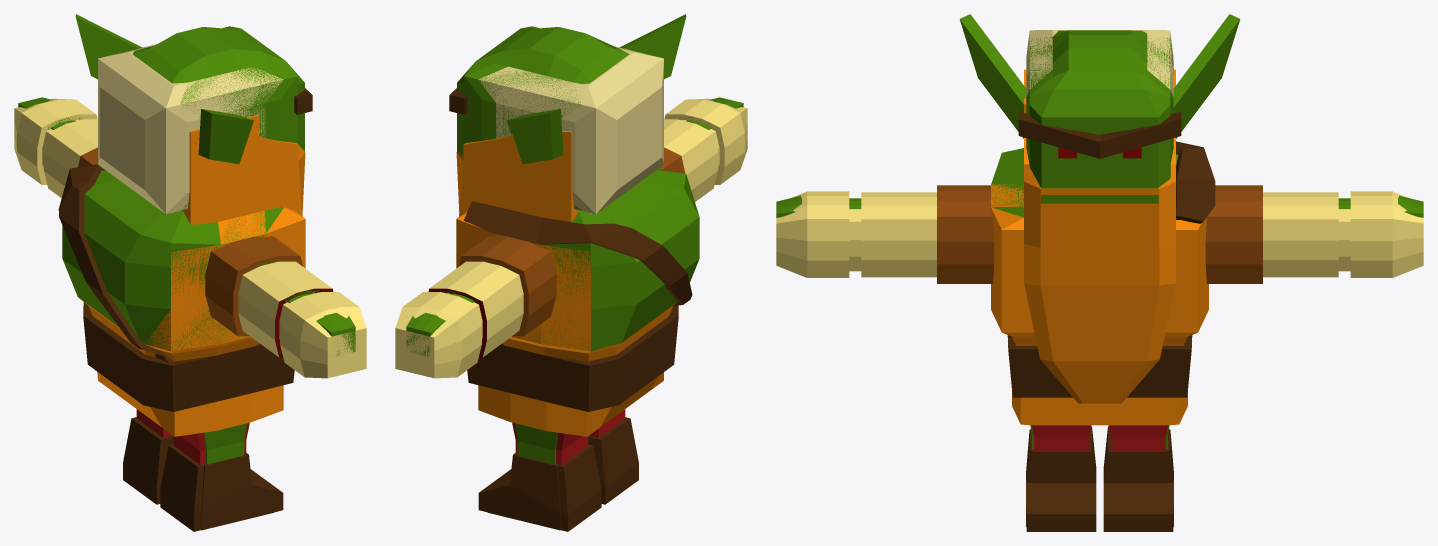
Rendered from Citizen2.fbx.
3 renders of one model, left to right at view 1: azimuth 30°, elevation 25°; view 2: azimuth 150°, elevation 25°; view 3: azimuth 270°, elevation 25°, orthographic. The views are drawn at different scales.
Visible parts, largest first — view 1: Cube, Cube.005, Cube.002, Cube.004, Cube.001, Cube.006, Cube.009, Cube.007; view 2: Cube, Cube.005, Cube.002, Cube.004, Cube.001, Cube.006, Cube.009, Cube.007; view 3: Cube.002, Cube.004, Cube.005, Cube, Cube.001, Cube.009, Cube.010, Cube.007.
Part boxes in pixels (box(x1,y1,x2,y2)): Cube: box(80, 44, 305, 436); Cube.005: box(58, 26, 304, 392); Cube.002: box(14, 98, 366, 378); Cube.004: box(182, 114, 305, 224); Cube.001: box(123, 409, 283, 531); Cube.006: box(201, 423, 274, 530); Cube.009: box(75, 14, 253, 164); Cube.007: box(18, 97, 355, 356); Cube: box(456, 47, 678, 436); Cube.005: box(457, 26, 699, 392); Cube.002: box(395, 98, 747, 378); Cube.004: box(456, 131, 579, 222); Cube.001: box(478, 409, 638, 531); Cube.006: box(487, 423, 560, 530); Cube.009: box(507, 14, 686, 164); Cube.007: box(406, 97, 743, 356); Cube.002: box(776, 185, 1423, 283); Cube.004: box(1024, 69, 1175, 403); Cube.005: box(991, 30, 1215, 337); Cube: box(991, 30, 1208, 425); Cube.001: box(1026, 425, 1173, 531); Cube.009: box(959, 14, 1240, 138); Cube.010: box(1018, 111, 1181, 158); Cube.007: box(776, 195, 1423, 217).
Bounding box in the file's own units: 343 × 735 × 921.
